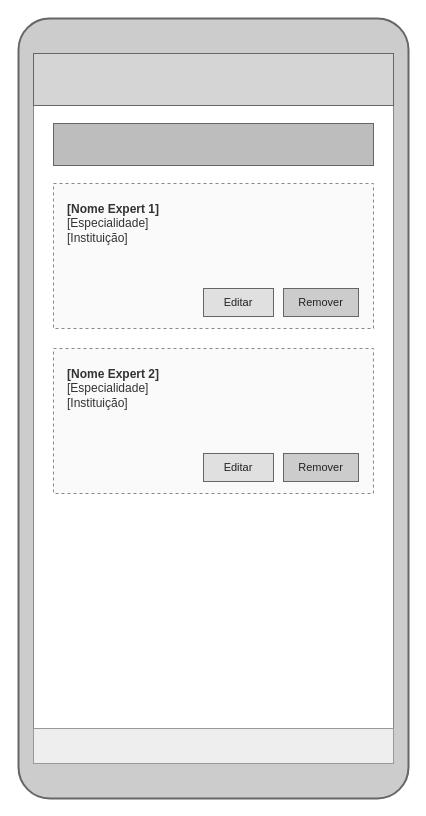
Image size: 426x816. Some labels were removed from this diagram. Here are the shapes that lost their labels. From the top down, the box of each, then its label:
(32, 52, 394, 106): ☰ Animalec — Experts
(52, 122, 374, 166): + Novo Especialista
(32, 728, 394, 764): Animalec Back-office (Mobile)
